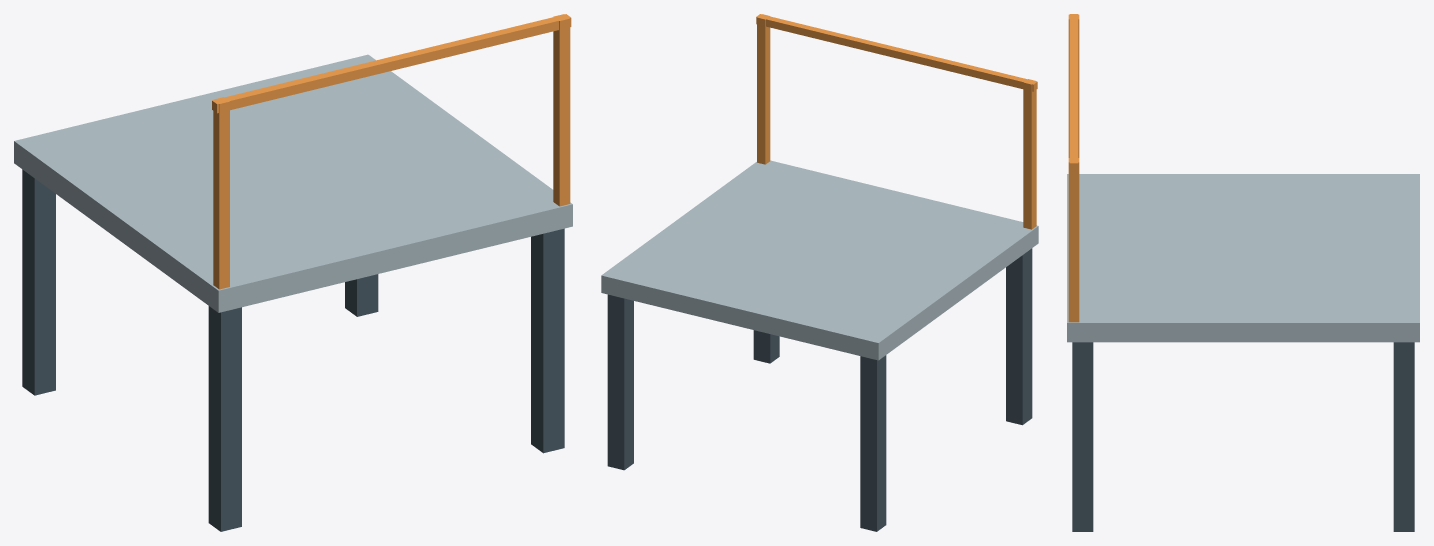
File: steel-maintenance-platform.glb
3 views of the same model, side by side, from view 1: azimuth 30°, elevation 25°; view 2: azimuth 150°, elevation 25°; view 3: azimuth 270°, elevation 25° (orthographic). The views are drawn at different scales.
Parts seen in each view (by area): view 1: steel, dark, orange; view 2: steel, dark, orange; view 3: steel, dark, orange.
Part boxes in pixels (x1=…): steel: x1=14, y1=54, x2=572, y2=312; dark: x1=22, y1=169, x2=564, y2=531; orange: x1=212, y1=14, x2=571, y2=289; steel: x1=601, y1=160, x2=1038, y2=360; dark: x1=607, y1=248, x2=1032, y2=531; orange: x1=756, y1=14, x2=1037, y2=229; steel: x1=1067, y1=174, x2=1419, y2=342; dark: x1=1072, y1=342, x2=1414, y2=531; orange: x1=1068, y1=14, x2=1079, y2=322.
Bounding box in the file's own units: 2 × 2.32 × 2.
